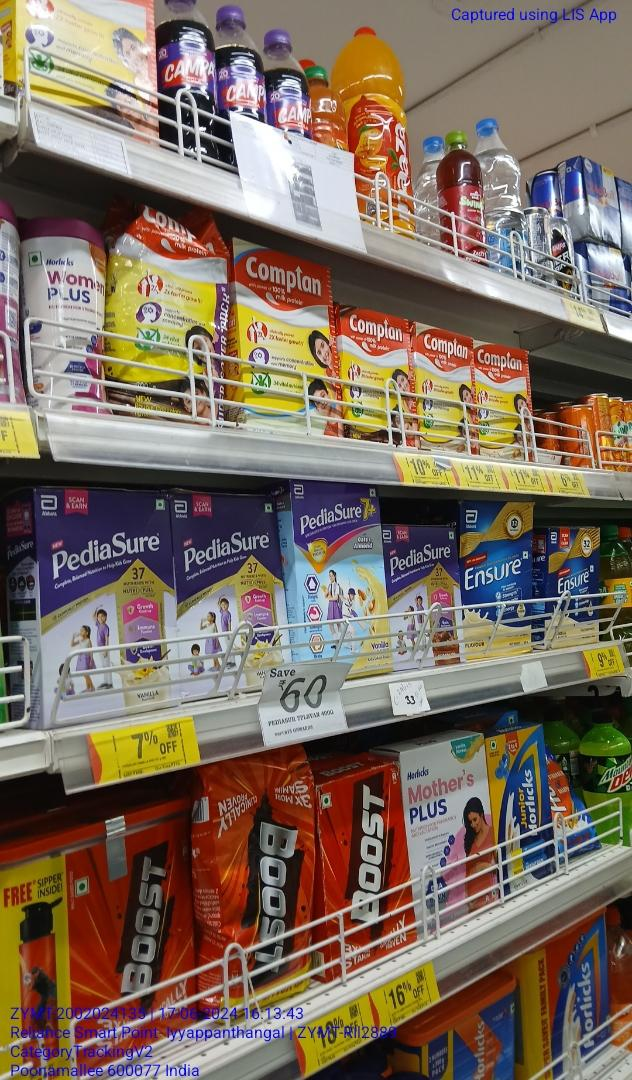COMPLAN_CHOCOLATE_200_GMS_PACK: (345, 309, 418, 444)
COMPLAN_CREAMY_CLASSIC_500_G_PACK: (236, 249, 343, 435)
COMPLAN_KESAR_BADAM_200_GMS_PACK: (419, 331, 476, 454), (477, 344, 536, 461)
COMPLAN_RC_POUCH_700_GMS_12: (107, 208, 228, 421)
ENSURE_VANILLA_400_G_PACK: (547, 530, 601, 651)
PEDIASURE_CHOCOLATE_500_G_PACK: (388, 525, 463, 665)
